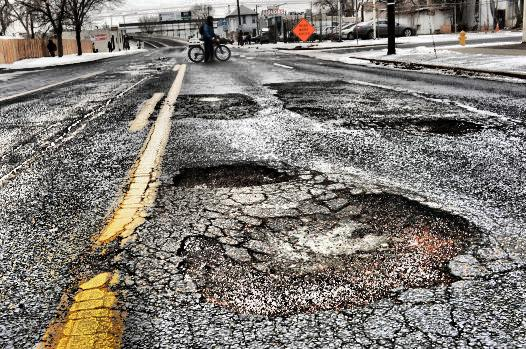pothole: (158, 178, 498, 325), (158, 156, 291, 191), (414, 115, 488, 138)
